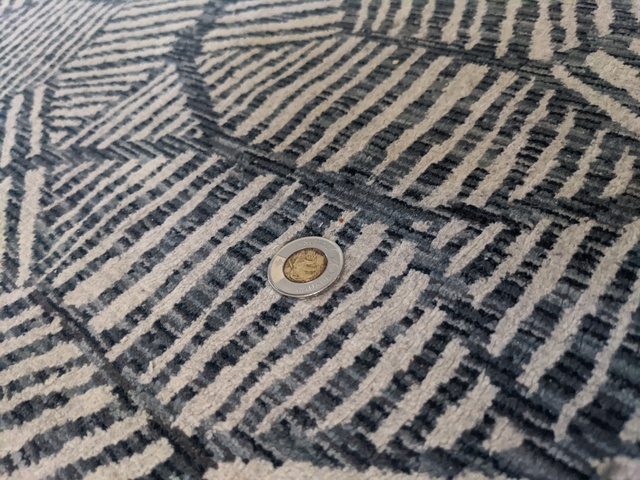twonie: (266, 224, 348, 310)
